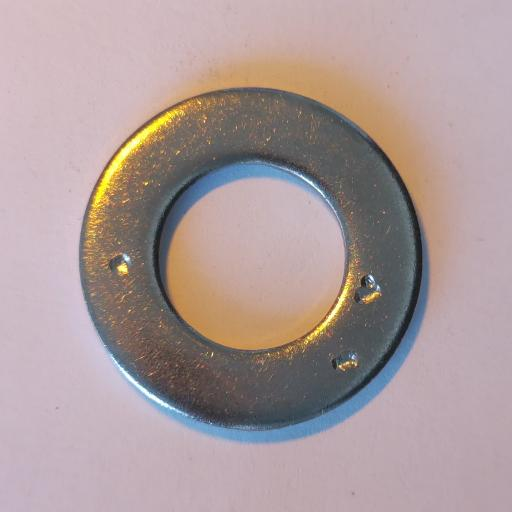circular_cavity: (353, 273, 383, 308), (331, 349, 361, 374), (109, 252, 134, 275), (370, 287, 374, 288)
